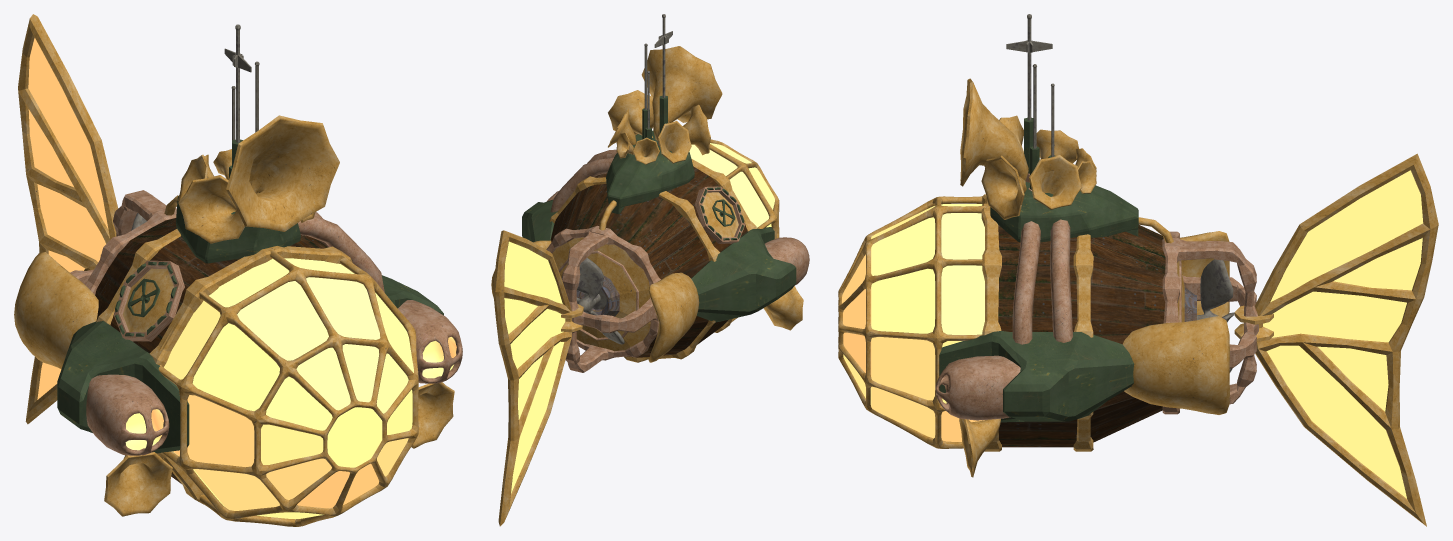
The model's file is nebuchadnessar.fbx.
3 renders of one model, left to right at view 1: azimuth 30°, elevation 25°; view 2: azimuth 150°, elevation 25°; view 3: azimuth 270°, elevation 25°, orthographic. The views are drawn at different scales.
Visible parts, largest first — view 1: hull_outer, windowframe, grammy_tops, rudderfin_membrane, rudderfin_frame, lightlamps, wingies, prop_guard_outers, wing_grammies, hatch_outer, hull_ring_front, top_block (+5 smaller); view 2: hull_outer, grammy_tops, wingies, rudderfin_membrane, rudderfin_frame, top_block, prop_guard_outers, prop_guard_vertical, hull_ring_rear, hatch_outer, hull_ring_mid, windowframe (+7 smaller); view 3: hull_outer, rudderfin_membrane, rudderfin_frame, wingies, prop_guard_outers, grammy_tops, windowframe, outer_side_tubes, top_block, lightlamps, prop_guard_vertical, hull_ring_mid (+6 smaller).
Part boxes in pixels (<box>): hull_outer: <box>95,218,413,519</box>; windowframe: <box>158,247,418,526</box>; grammy_tops: <box>178,115,339,243</box>; rudderfin_membrane: <box>28,38,108,399</box>; rudderfin_frame: <box>18,14,117,424</box>; lightlamps: <box>86,300,462,455</box>; wingies: <box>57,275,443,453</box>; prop_guard_outers: <box>14,252,98,369</box>; wing_grammies: <box>104,382,454,516</box>; hatch_outer: <box>113,260,184,341</box>; hull_ring_front: <box>149,246,352,504</box>; top_block: <box>176,195,300,263</box>; hull_outer: <box>550,143,774,357</box>; grammy_tops: <box>608,46,722,164</box>; wingies: <box>522,199,796,322</box>; rudderfin_membrane: <box>504,241,565,493</box>; rudderfin_frame: <box>493,230,571,526</box>; top_block: <box>606,130,694,214</box>; prop_guard_outers: <box>491,240,699,362</box>; prop_guard_vertical: <box>561,230,608,372</box>; hull_ring_rear: <box>546,225,660,360</box>; hatch_outer: <box>694,186,744,243</box>; hull_ring_mid: <box>549,176,720,362</box>; windowframe: <box>709,139,779,322</box>; hull_outer: <box>842,204,1196,447</box>; rudderfin_membrane: <box>1263,170,1423,498</box>; rudderfin_frame: <box>1255,153,1438,526</box>; wingies: <box>939,331,1134,422</box>; prop_guard_outers: <box>1122,231,1229,414</box>; grammy_tops: <box>960,78,1096,219</box>; windowframe: <box>838,196,989,448</box>; outer_side_tubes: <box>1012,219,1072,344</box>; top_block: <box>990,182,1138,242</box>; lightlamps: <box>935,355,1020,420</box>; prop_guard_vertical: <box>1178,239,1257,404</box>; hull_ring_mid: <box>1073,234,1093,451</box>.
Size of the model in its own units: 460 by 680 by 729.
